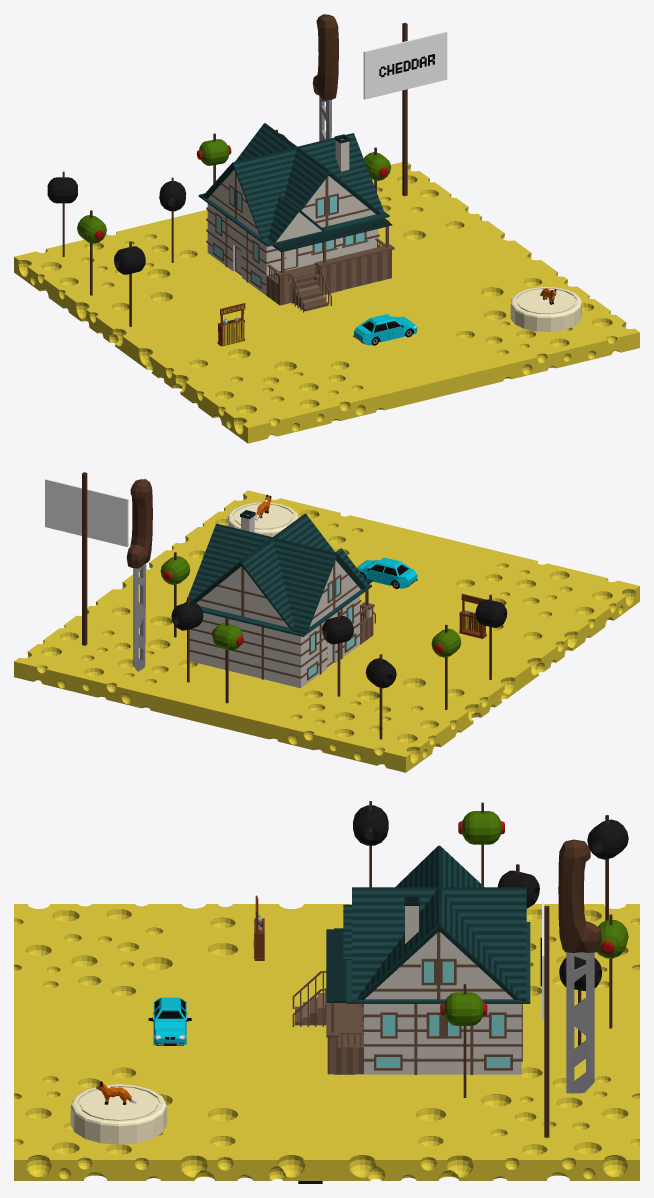
3 views of the same model, one above another, from view 1: azimuth 30°, elevation 25°; view 2: azimuth 150°, elevation 25°; view 3: azimuth 270°, elevation 25° (orthographic). The views are drawn at different scales.
Visible parts, largest first — view 1: Cube.022, Cube.793, Cube.023, Cylinder.016, Cube.024, VEHICLES_CAR, Sphere.017, Sphere.016, OBJRANDOM_LEMONADE_STAND, Sphere.020, Sphere.018, Sphere.022 (+1 smaller); view 2: Cube.022, Cube.793, Cube.023, Cube.024, Cylinder.016, VEHICLES_CAR, Sphere.020, Sphere.016, Sphere.022, Sphere.017, Sphere.021, Sphere.018 (+2 smaller); view 3: Cube.022, Cube.793, Cube.024, Cylinder.016, Cube.023, VEHICLES_CAR, Sphere.019, Sphere.016, Sphere.018, Sphere.017, Sphere.022, Sphere.020 (+2 smaller).
Boxes of the visible parts, x1,y1,x2,y2 form: Cube.022: (14,162,639,443); Cube.793: (198,123,394,312); Cube.023: (363,22,447,196); Cylinder.016: (510,287,581,331); Cube.024: (312,14,338,141); VEHICLES_CAR: (353,314,417,345); Sphere.017: (114,241,145,326); Sphere.016: (47,171,77,256); OBJRANDOM_LEMONADE_STAND: (217,303,245,346); Sphere.020: (159,177,186,262); Sphere.018: (77,210,106,295); Sphere.022: (196,133,231,183); Cube.022: (14,490,639,772); Cube.793: (184,510,375,688); Cube.023: (45,472,128,645); Cube.024: (126,479,152,671); Cylinder.016: (227,502,298,536); VEHICLES_CAR: (356,557,417,588); Sphere.020: (322,611,353,696); Sphere.016: (365,654,396,739); Sphere.022: (212,618,243,703); Sphere.017: (475,594,507,679); Sphere.021: (171,597,203,682); Sphere.018: (431,624,461,709); Cube.022: (14,904,639,1180); Cube.793: (292,845,530,1074); Cube.024: (558,839,601,1093); Cylinder.016: (70,1084,166,1144); Cube.023: (540,902,549,1137); VEHICLES_CAR: (148,997,191,1045); Sphere.019: (440,984,487,1097); Sphere.016: (587,815,628,920); Sphere.018: (458,802,504,885); Sphere.017: (353,801,388,887); Sphere.022: (597,914,628,1028); Sphere.020: (497,864,539,908).
Bounding box in the file's own units: 3917 × 2015 × 4000.
35 materials, 4 textured.
